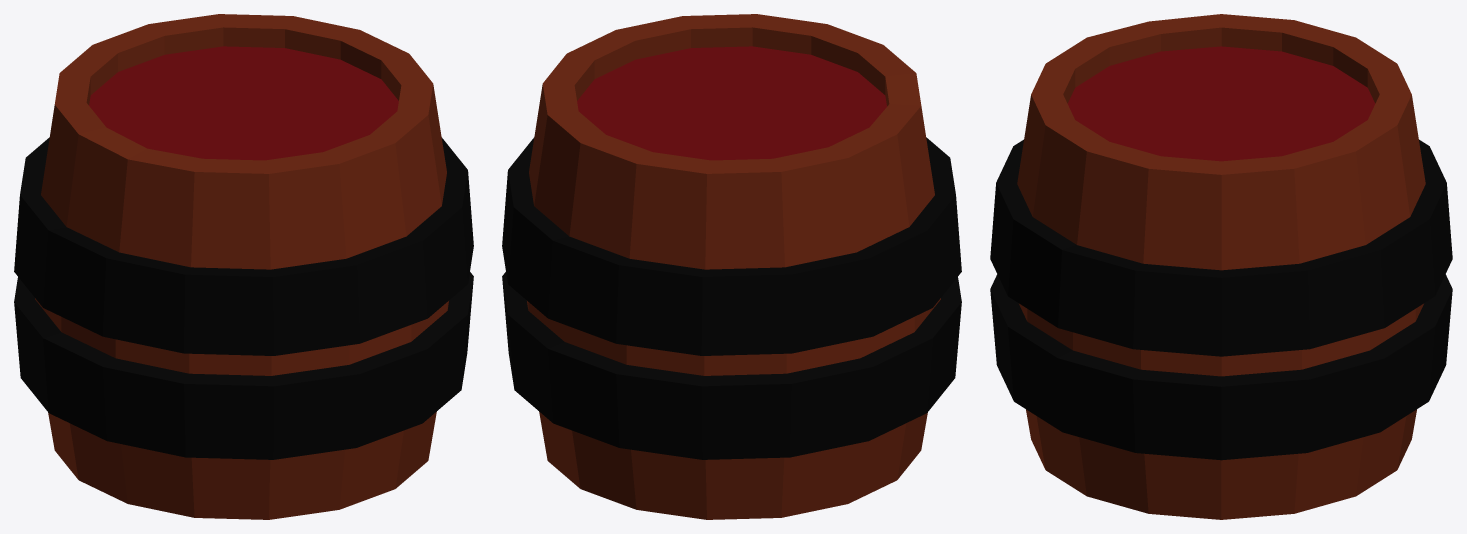
File: varilkayauntitled.fbx
3 renders of one model, left to right at view 1: azimuth 30°, elevation 25°; view 2: azimuth 150°, elevation 25°; view 3: azimuth 270°, elevation 25°, orthographic.
Parts seen in each view (by area): view 1: Cylinder; view 2: Cylinder; view 3: Cylinder.
Part boxes in pixels (left/top/right/bottom): Cylinder: left=14, top=14, right=473, bottom=519; Cylinder: left=502, top=14, right=961, bottom=519; Cylinder: left=990, top=14, right=1452, bottom=519.
Bounding box in the file's own units: 243 × 200 × 243.
